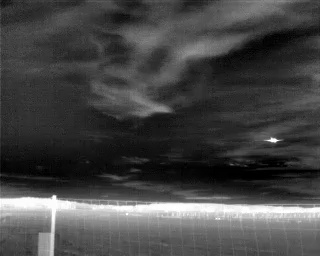AIRPLANE: (261, 134, 284, 146)
